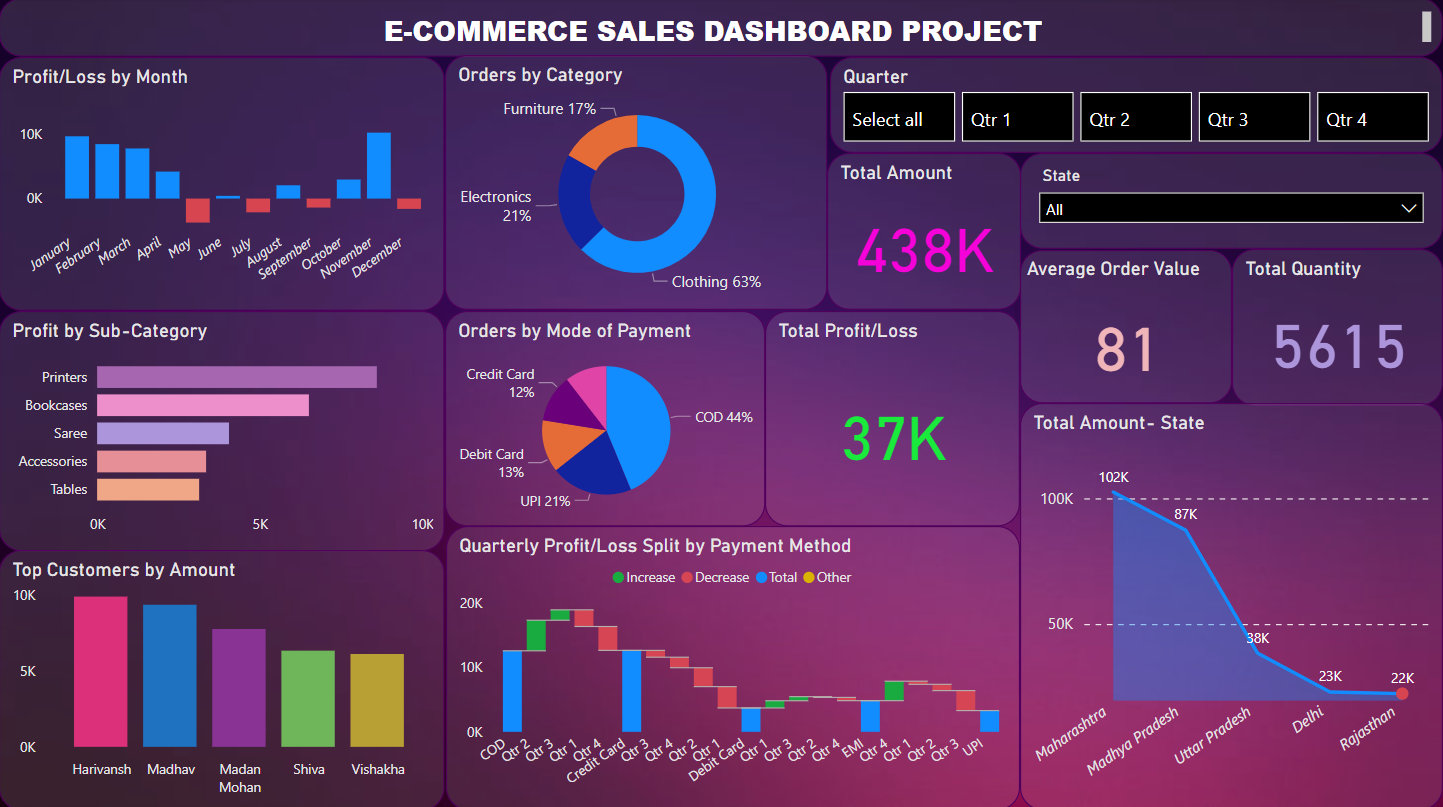

What the dashboard file says about the page in this screenshot:
{"tool":"powerbi","page":{"name":"Page 1","canvas":[1280,720],"ordinal":0},"visuals":[{"type":"textbox","box":[0,0,1280.3,52.1],"z":0},{"type":"columnChart","title":"Profit/Loss by Month","fields":{"Y":["Details.Profit"],"Category":["Orders.Order Date.Variation.Date Hierarchy.Month"]},"box":[0,52.1,395.2,225],"z":1000},{"type":"barChart","title":"Profit by Sub-Category","fields":{"Category":["Details.Sub-Category"],"Y":["Details.Profit"]},"box":[0,277.2,395.2,212.7],"z":2000},{"type":"donutChart","title":"Orders by Category","fields":{"Category":["Details.Category"],"Y":["Details.Quantity"]},"box":[395.6,50.7,338.9,225.5],"z":3000},{"type":"pieChart","title":"Orders by Mode of Payment","fields":{"Y":["Details.Quantity"],"Category":["Details.PaymentMode"]},"box":[395.2,277.2,284,190.7],"z":4000},{"type":"card","title":"Total Amount","fields":{"Values":["Details.Amount"]},"box":[734.1,137.2,171.5,138.6],"z":5000},{"type":"card","title":"Total Quantity","fields":{"Values":["Details.Quantity"]},"box":[1093.7,222.3,186.6,138.6],"z":6000},{"type":"card","title":"Total Profit/Loss","fields":{"Values":["Details.Profit"]},"box":[679.2,277.2,226.4,190.7],"z":7000},{"type":"card","title":"Total Average Order Value","fields":{"Values":["Details.Average Order Value"]},"box":[905.7,223.1,188.1,136.3],"z":8000},{"type":"areaChart","title":"Total Amount- State","fields":{"Category":["Orders.State"],"Y":["Details.Amount"]},"box":[905.7,359.5,374.6,360.9],"z":9000},{"type":"columnChart","title":"Top Customers by Amount","fields":{"Category":["Orders.CustomerName"],"Y":["Details.Amount"]},"box":[0,489.9,395.2,230.5],"z":10000},{"type":"advancedSlicerVisual","fields":{"Values":["Orders.Order Date.Variation.Date Hierarchy.Quarter"]},"box":[736.9,52.1,543.4,85.1],"z":11000},{"type":"slicer","fields":{"Values":["Orders.State"]},"box":[905.7,137.2,374.6,85.1],"z":12000},{"type":"waterfallChart","title":"Quarterly Profit/Loss Split by Payment Method","fields":{"Y":["Details.Profit"],"Category":["Details.PaymentMode"],"Breakdown":["Orders.Order Date.Variation.Date Hierarchy.Quarter"]},"box":[396.6,467.9,509.1,252.5],"z":13000}]}

Visuals, with their boxes in screenshot pixels (x1, y1, x2, y2), scaled from the page's 1280x720 canvas onto the 1443x807 screenshot:
textbox: {"left": 0, "top": 0, "right": 1442, "bottom": 58}
"Profit/Loss by Month" columnChart: {"left": 0, "top": 58, "right": 446, "bottom": 311}
"Profit by Sub-Category" barChart: {"left": 0, "top": 311, "right": 446, "bottom": 549}
"Orders by Category" donutChart: {"left": 446, "top": 57, "right": 828, "bottom": 310}
"Orders by Mode of Payment" pieChart: {"left": 446, "top": 311, "right": 766, "bottom": 524}
"Total Amount" card: {"left": 828, "top": 154, "right": 1021, "bottom": 309}
"Total Quantity" card: {"left": 1233, "top": 249, "right": 1442, "bottom": 405}
"Total Profit/Loss" card: {"left": 766, "top": 311, "right": 1021, "bottom": 524}
"Total Average Order Value" card: {"left": 1021, "top": 250, "right": 1233, "bottom": 403}
"Total Amount- State" areaChart: {"left": 1021, "top": 403, "right": 1442, "bottom": 806}
"Top Customers by Amount" columnChart: {"left": 0, "top": 549, "right": 446, "bottom": 806}
advancedSlicerVisual - Orders.Order Date.Variation.Date Hierarchy.Quarter: {"left": 831, "top": 58, "right": 1442, "bottom": 154}
slicer - Orders.State: {"left": 1021, "top": 154, "right": 1442, "bottom": 249}
"Quarterly Profit/Loss Split by Payment Method" waterfallChart: {"left": 447, "top": 524, "right": 1021, "bottom": 806}
